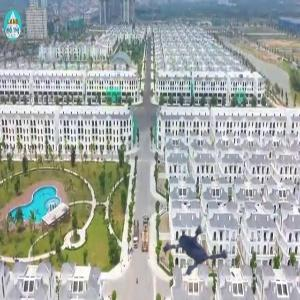drone: (151, 187, 253, 289)
